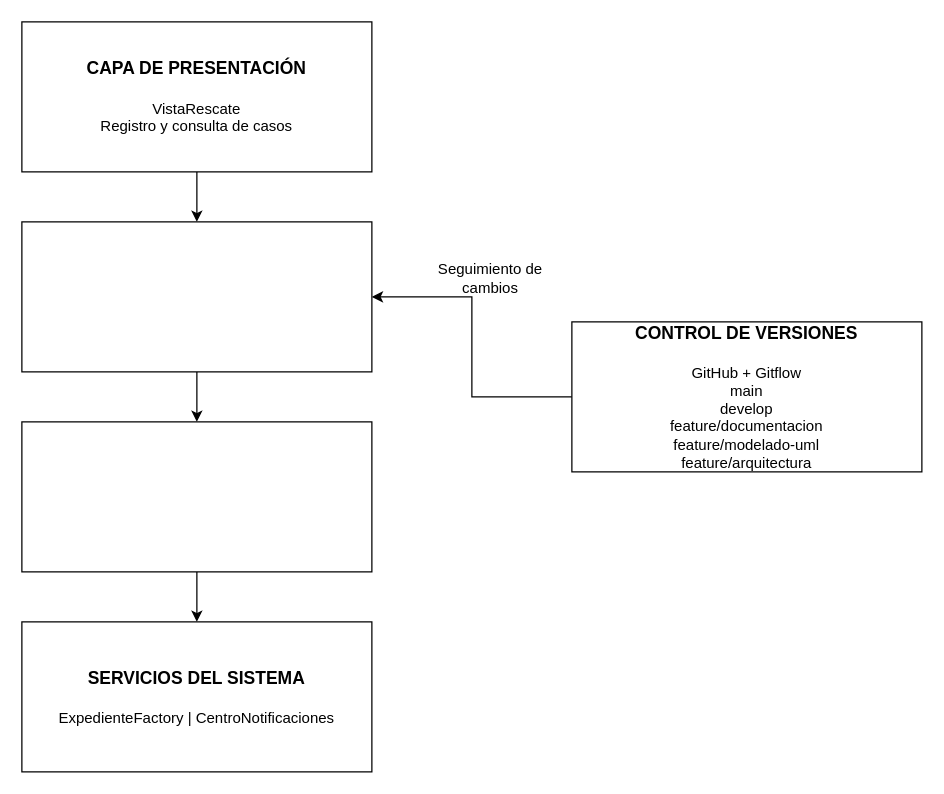
The diagram is 944 pixels wide and 794 high, and some of its shapes have lost their labels. The shapes that lost their labels are listed below. From the top down, each one's box as (x1, y1, x2, y2) in pixels, then its label:
(21, 221, 372, 372): CAPA DE CONTROL RescateController Coordinación de solicitudes
(21, 421, 372, 572): CAPA DE MODELO CasoRescate | Animal | Responsable
